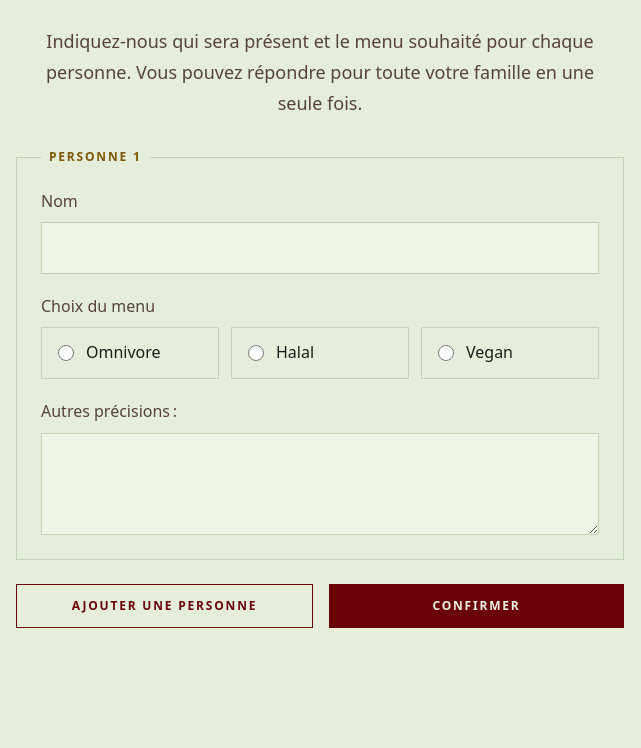
Test: RsvpPage › sends every person of a family in a single request
(page scrolled)
Click the button "Ajouter une personne" at [164, 606], box [16,584,313,628]
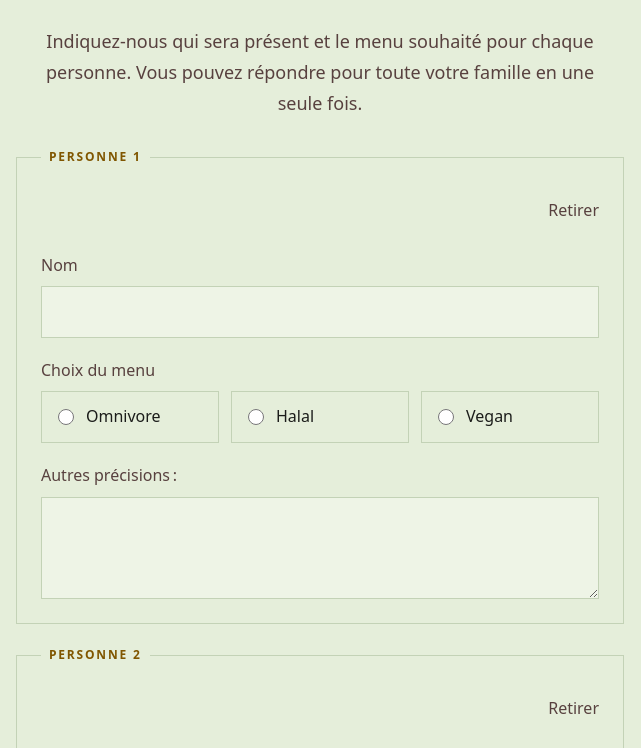
Type "Louis" into the field labelled "Nom" at [320, 312], box [41,286,599,338]
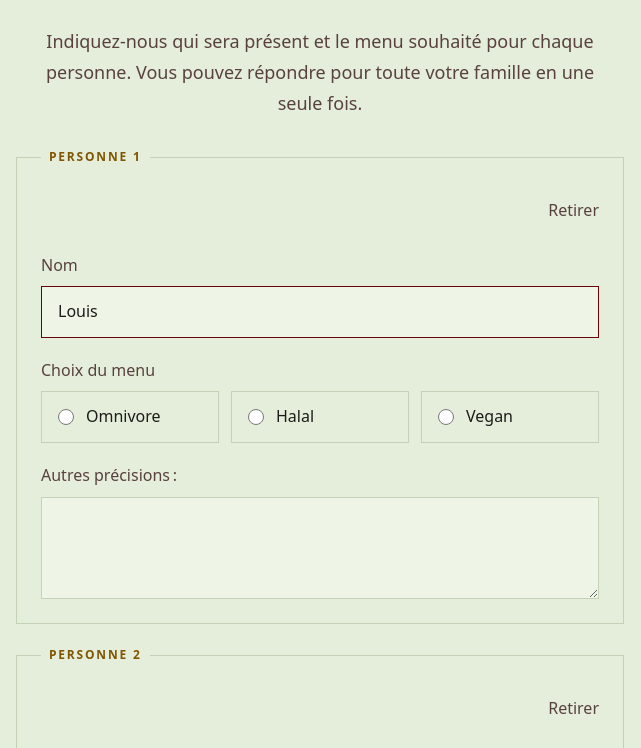
Click the radio button labelled "Halal" at [256, 417], box [248,409,264,425]
(page scrolled)
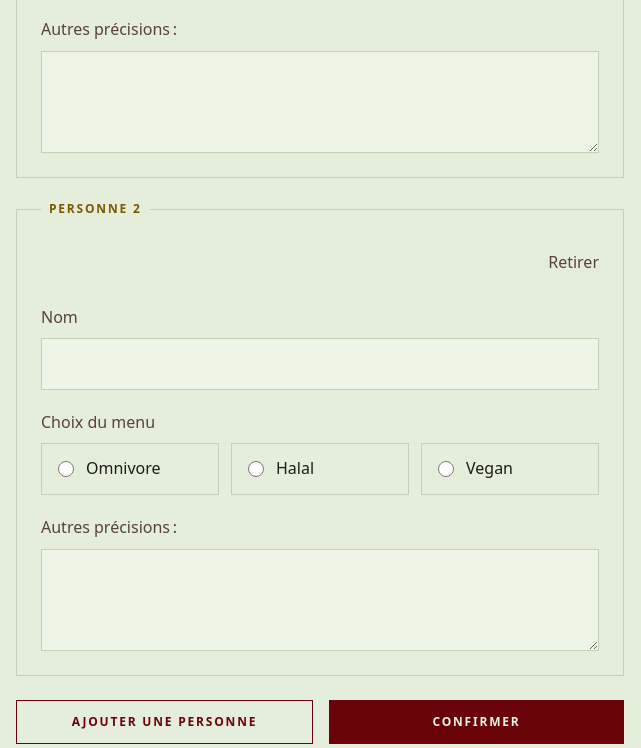
Type "Sarah" into the field labelled "Nom" at [320, 364], box [41,338,599,390]
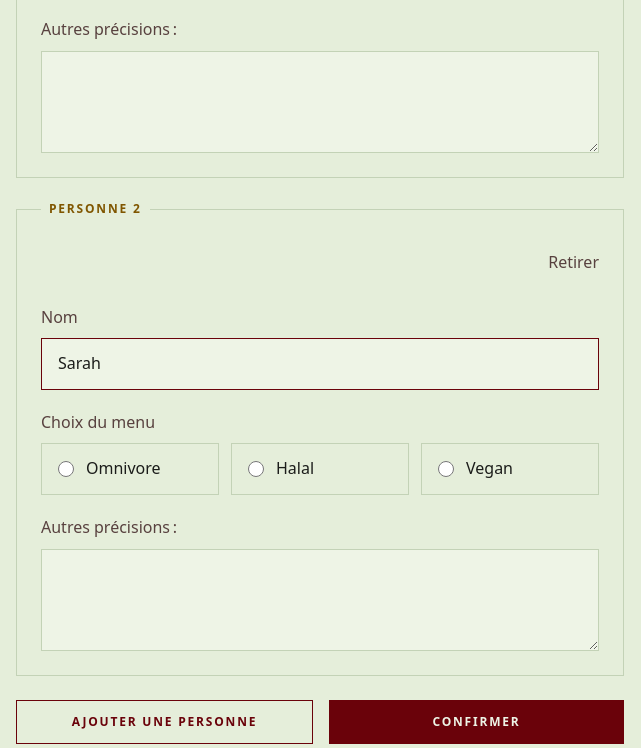
Click the radio button labelled "Omnivore" at [66, 469], box [58,461,74,477]
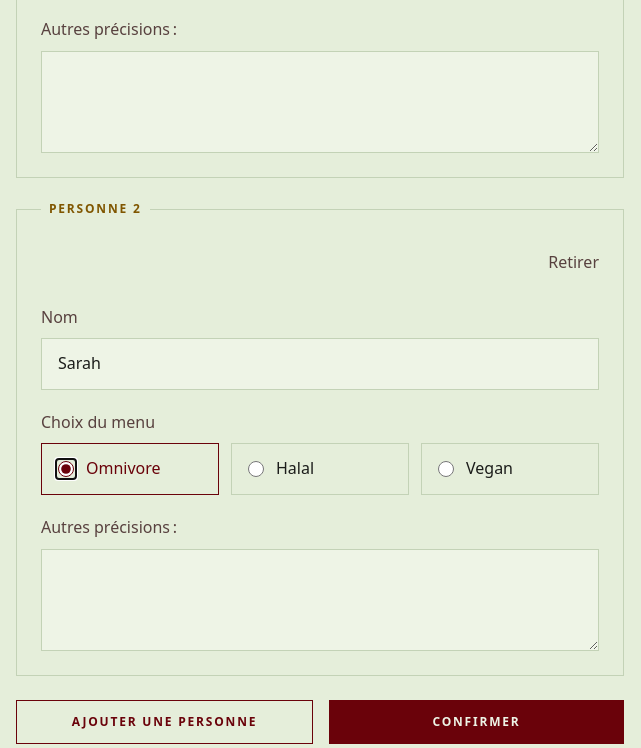
Click the button "Confirmer" at [476, 722], box [329,700,624,744]
(page scrolled)
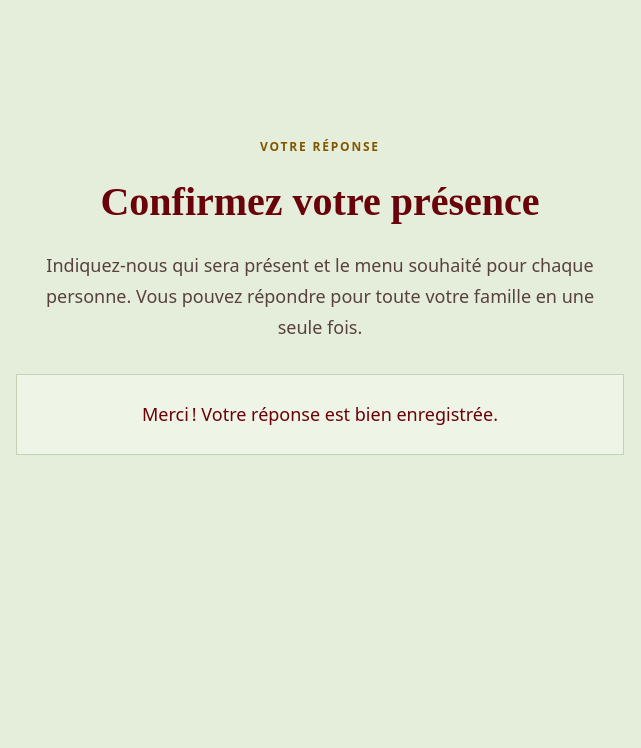
Check: the message "Merci ! Votre réponse est bien enregistrée." is shown, box [16,374,624,455]
